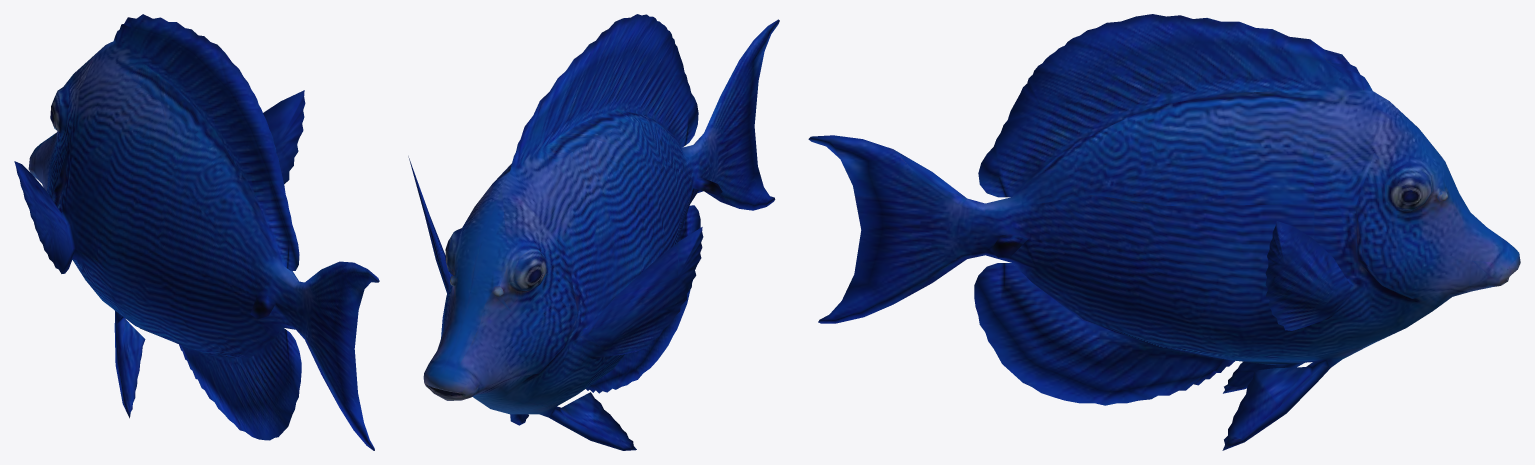
The model's file is blauwe_dokter.glb.
3 views of the same model, side by side, from view 1: azimuth 30°, elevation 25°; view 2: azimuth 150°, elevation 25°; view 3: azimuth 270°, elevation 25° (orthographic). The views are drawn at different scales.
Parts seen in each view (by area): view 1: tripo_node_c82592c9-526e-48d9-ad99-59b457081b45; view 2: tripo_node_c82592c9-526e-48d9-ad99-59b457081b45; view 3: tripo_node_c82592c9-526e-48d9-ad99-59b457081b45.
Boxes of the visible parts, box(x1,y1,x2,y2) form: tripo_node_c82592c9-526e-48d9-ad99-59b457081b45: box(14, 14, 379, 450); tripo_node_c82592c9-526e-48d9-ad99-59b457081b45: box(408, 14, 779, 450); tripo_node_c82592c9-526e-48d9-ad99-59b457081b45: box(808, 14, 1520, 450).
Size of the model in its own units: 0.2368 by 0.3 by 0.4746.
1 material, 1 textured.
